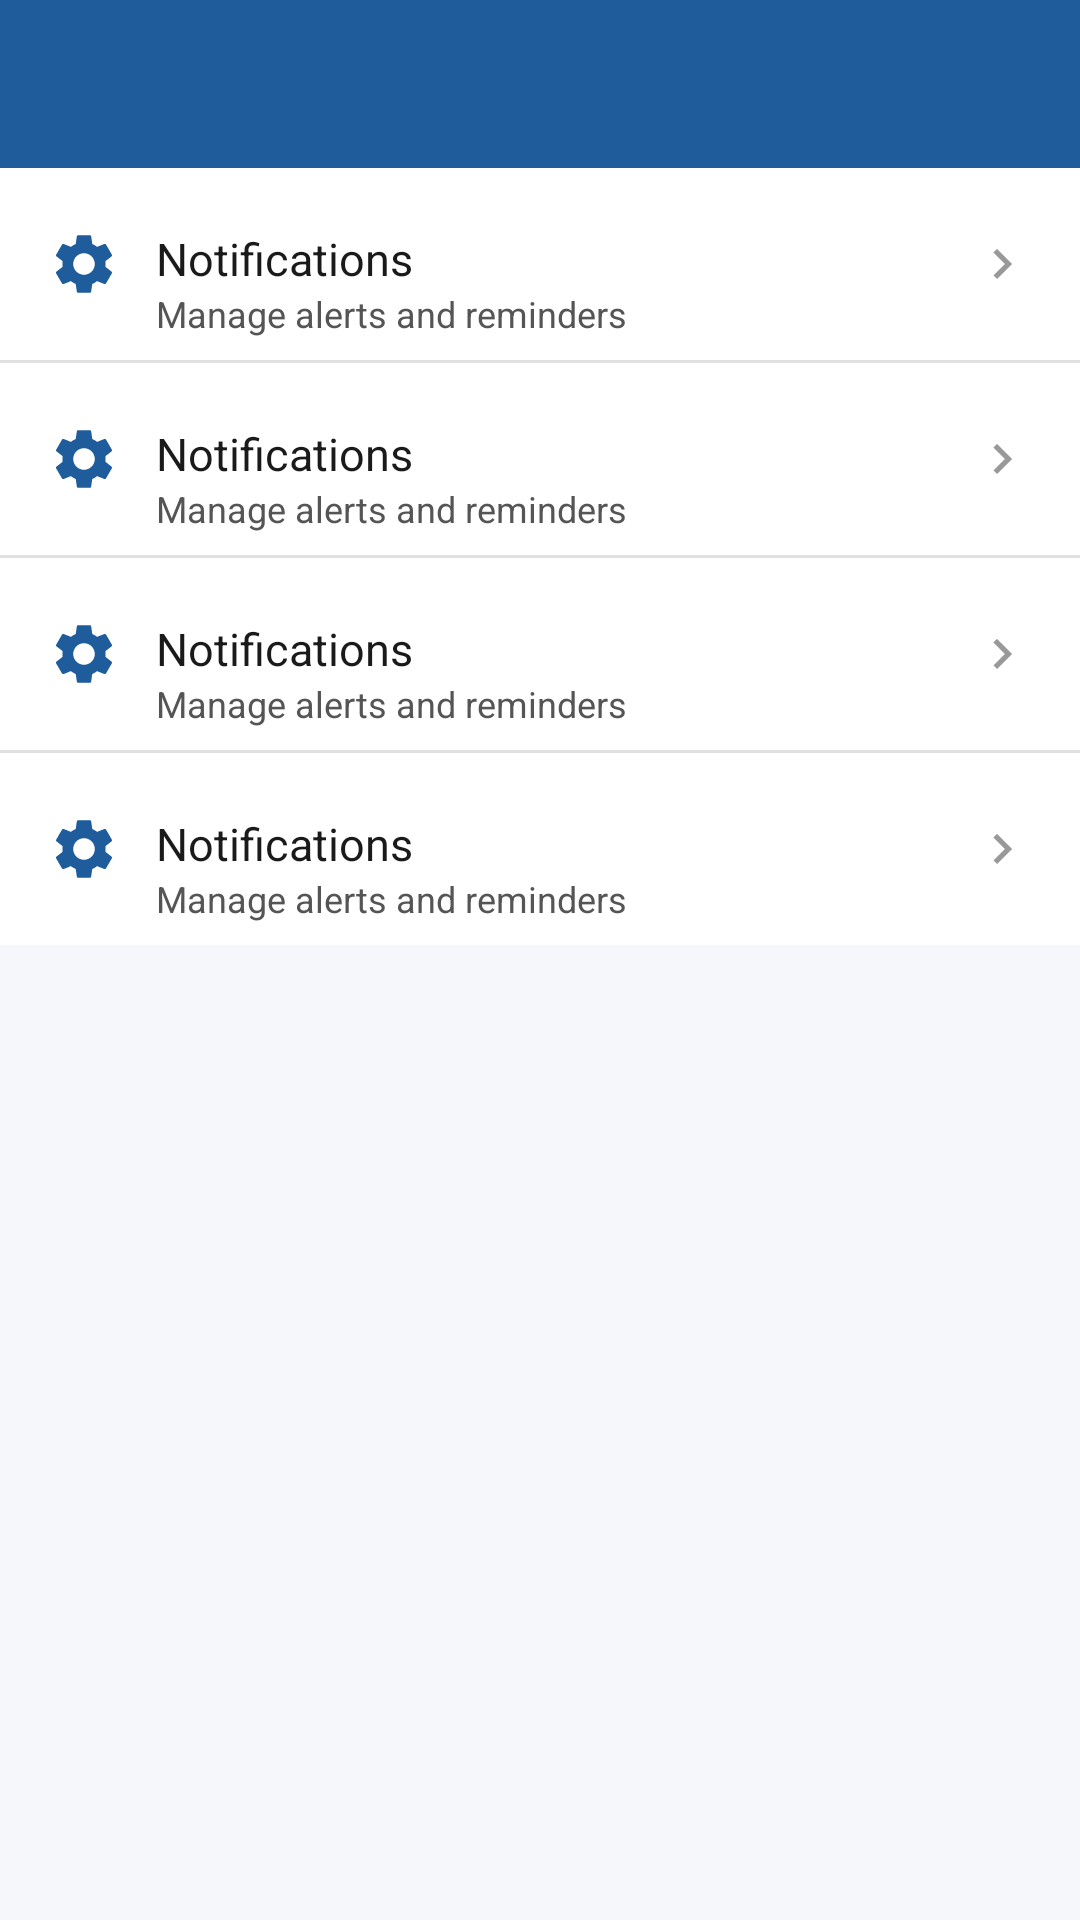

Icons on this 1080×1920 Android screen, each with the point to tap as (x=x, y=y):
chevron right: (x=1002, y=264), (x=1002, y=459), (x=1002, y=654), (x=1002, y=849)
Settings: (x=84, y=264), (x=84, y=459), (x=84, y=654), (x=84, y=849)
